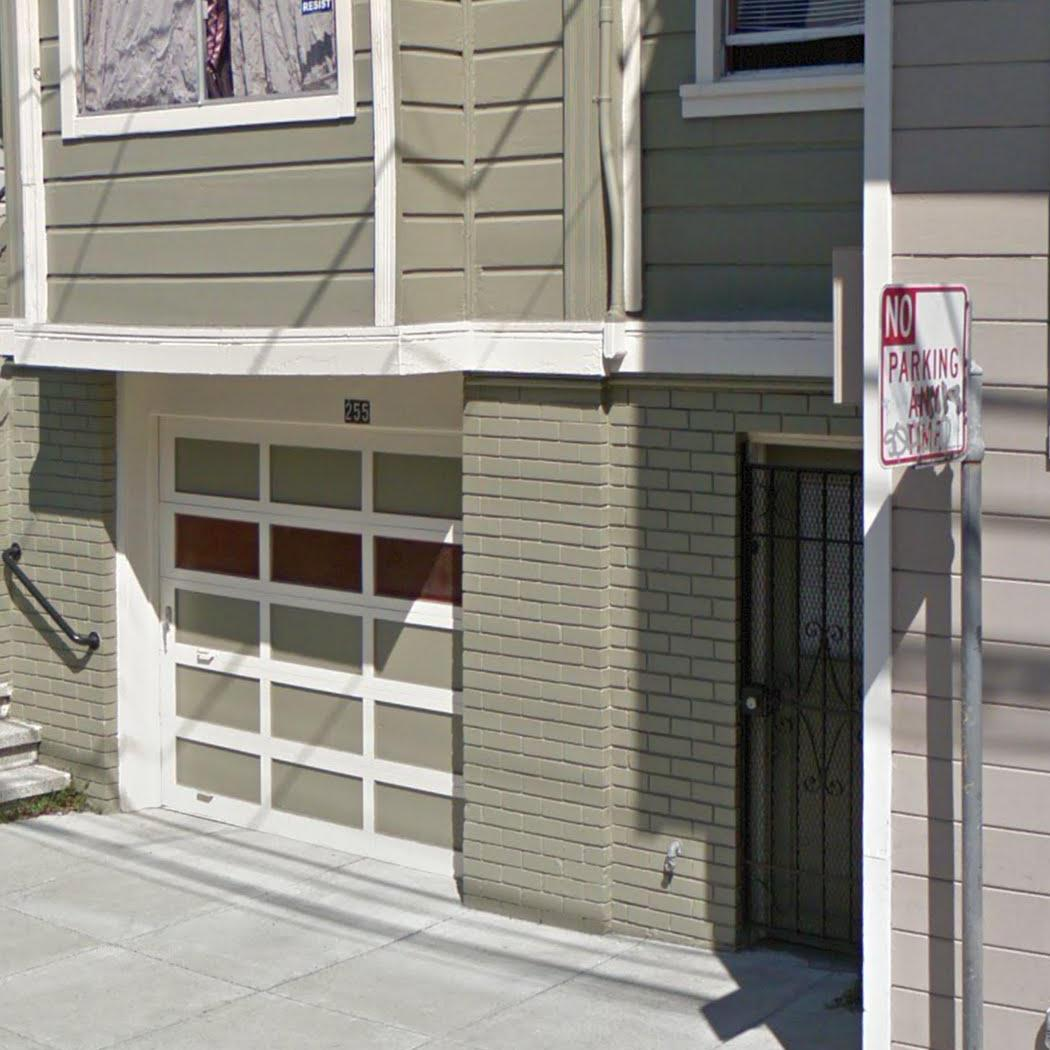No Parking Anytime: (875, 279, 973, 469)
